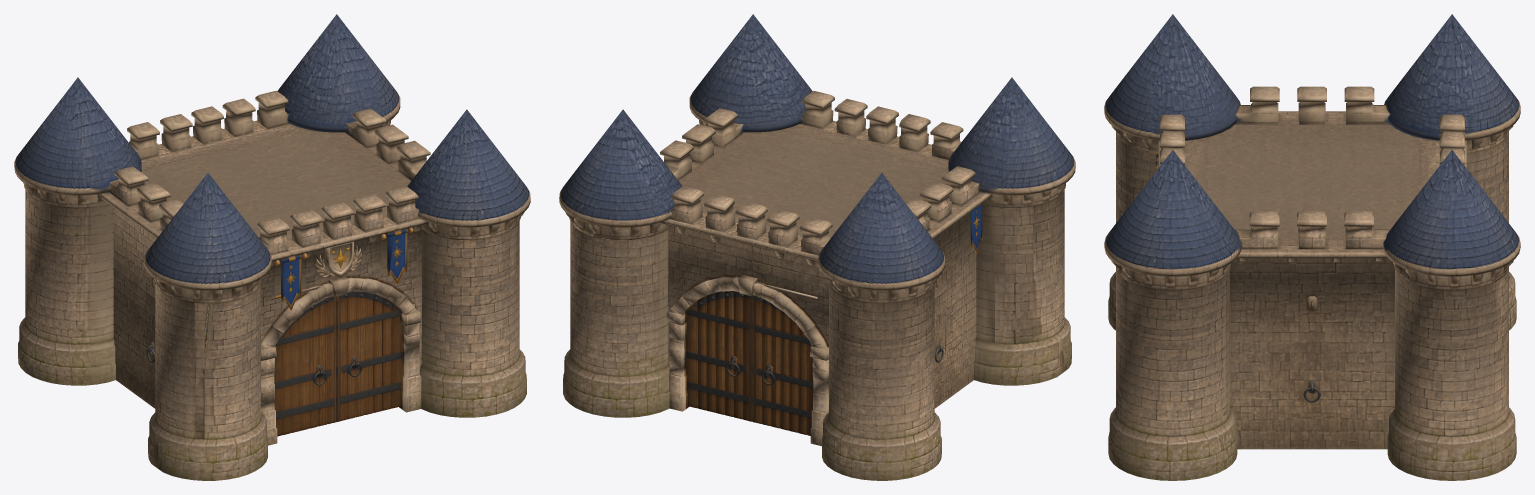
Rendered from Furn_Gatehouse2.fbx.
3 renders of one model, left to right at view 1: azimuth 30°, elevation 25°; view 2: azimuth 150°, elevation 25°; view 3: azimuth 270°, elevation 25°, orthographic. The views are drawn at different scales.
Parts seen in each view (by area): view 1: Furn_Gatehouse2; view 2: Furn_Gatehouse2; view 3: Furn_Gatehouse2.
Part boxes in pixels (<box>): Furn_Gatehouse2: <box>14,14,530,480</box>; Furn_Gatehouse2: <box>559,14,1075,480</box>; Furn_Gatehouse2: <box>1104,14,1520,480</box>.
Bounding box in the file's own units: 19.09 × 14 × 17.38.
1 material, 1 textured.
